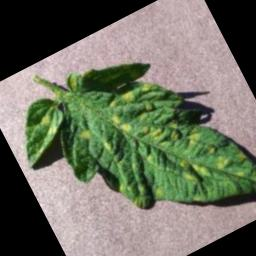Leaf_Mold: (31, 15, 256, 256)
